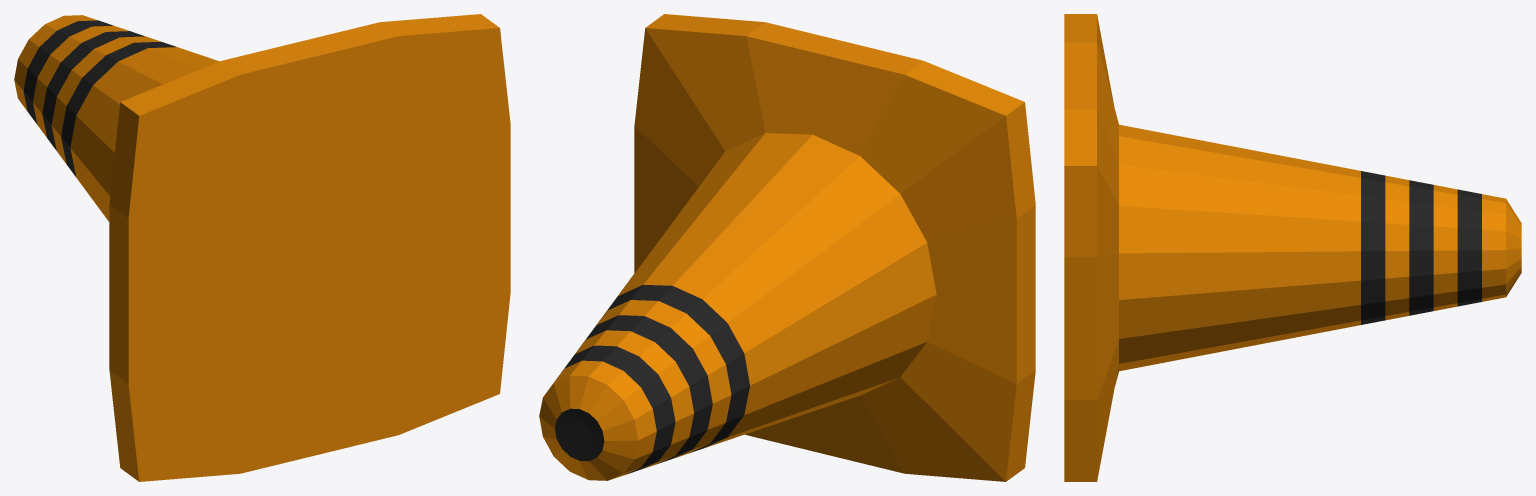
Rendered from Cone_Small.fbx.
3 views of the same model, side by side, from view 1: azimuth 30°, elevation 25°; view 2: azimuth 150°, elevation 25°; view 3: azimuth 270°, elevation 25° (orthographic). The views are drawn at different scales.
Visible parts, largest first — view 1: Cone_Small; view 2: Cone_Small; view 3: Cone_Small.
Part boxes in pixels (bbox=[...]): Cone_Small: bbox=[14, 14, 510, 481]; Cone_Small: bbox=[539, 14, 1035, 481]; Cone_Small: bbox=[1064, 14, 1521, 481].
Size of the model in its own units: 61.75 by 61.58 by 74.13.
